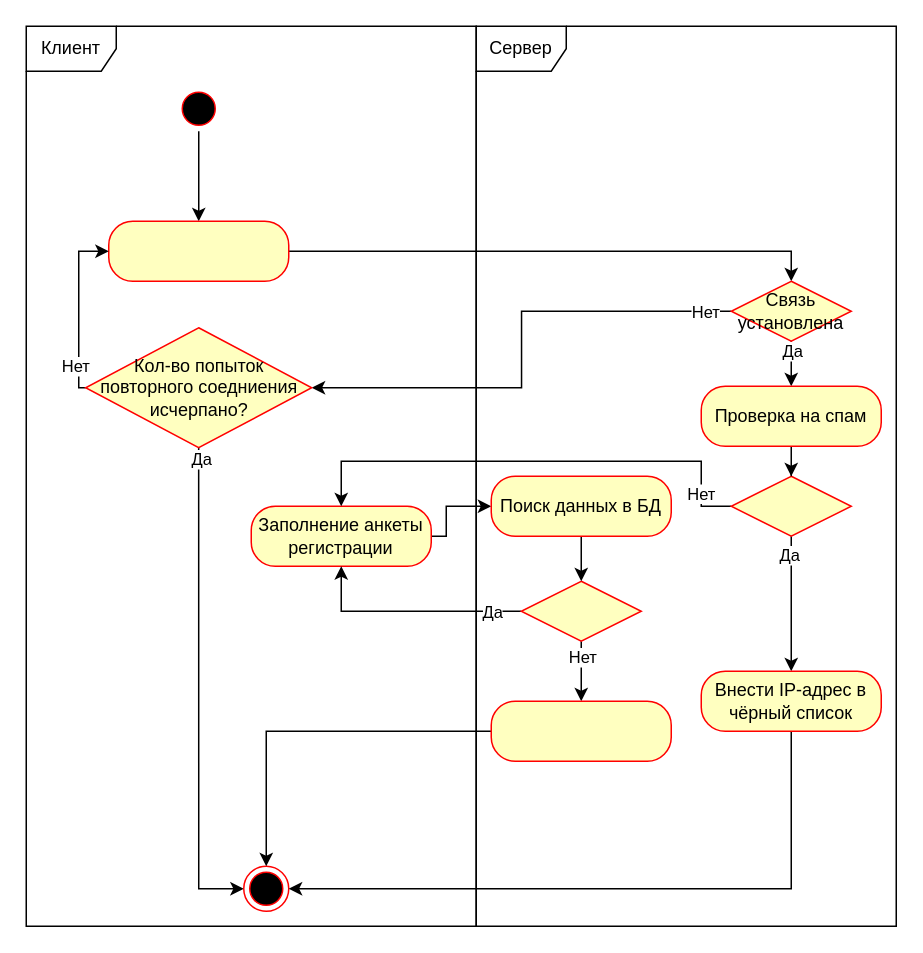
The diagram is 923 pixels wide and 953 high, and some of its shapes have lost their labels. Here are the shapes that lost their labels. From the top down, the centre of each, then its label:
At point 198,250: "Установление связи с сервером".
At point 790,505: "Это спам".
At point 580,610: "Такой логин уже есть".
At point 580,730: "Внесение данных в БД".
